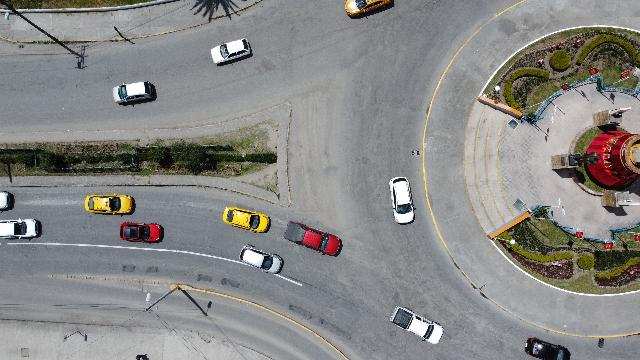Vehiculo: (284, 221, 342, 257), (391, 306, 444, 344), (238, 244, 284, 274), (389, 176, 416, 224), (223, 207, 271, 234), (210, 38, 252, 66), (84, 194, 136, 216), (112, 81, 156, 105), (525, 338, 571, 360), (120, 222, 164, 244), (0, 218, 40, 240), (344, 1, 392, 18)
